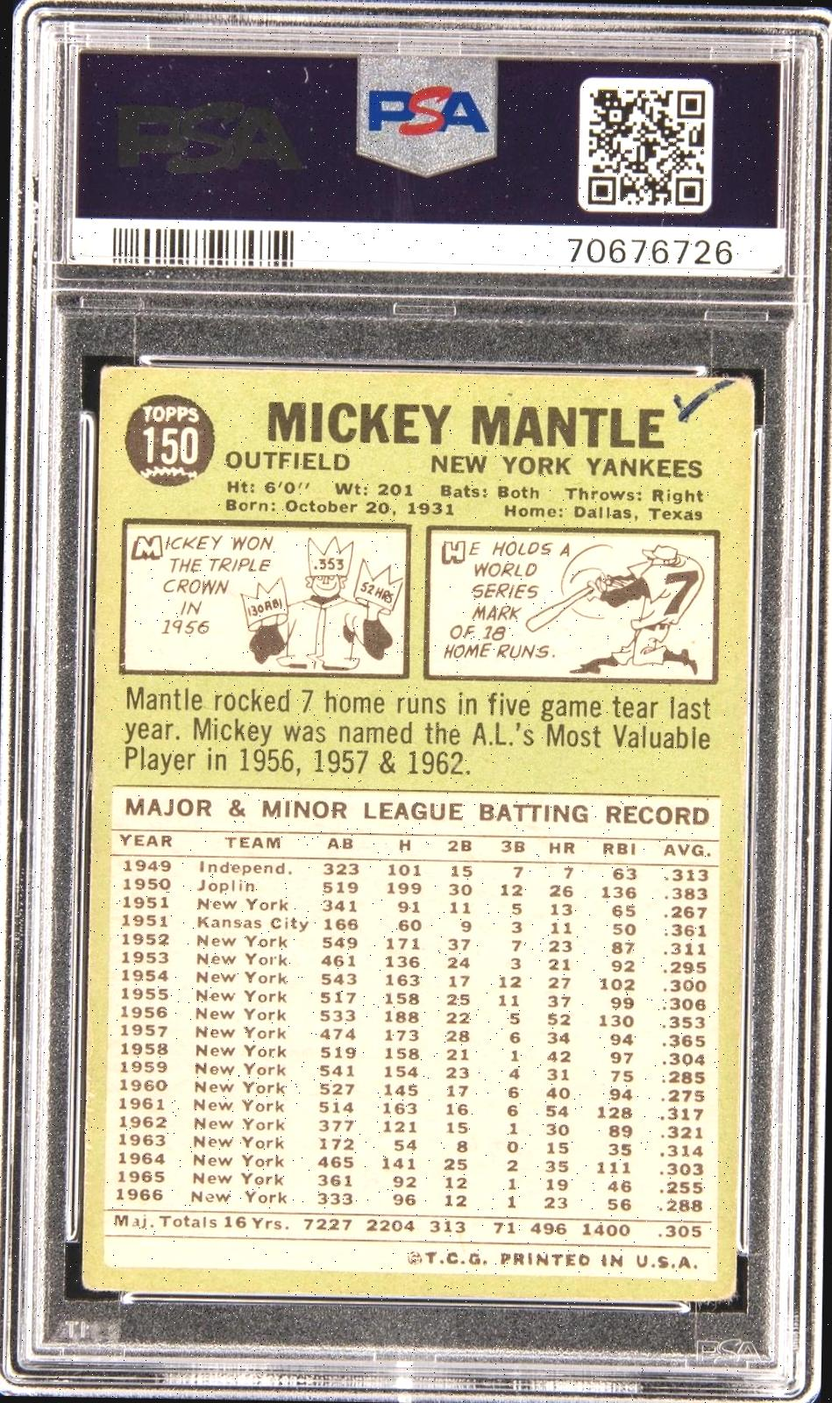card-2UtV: (80, 364, 756, 1305)
